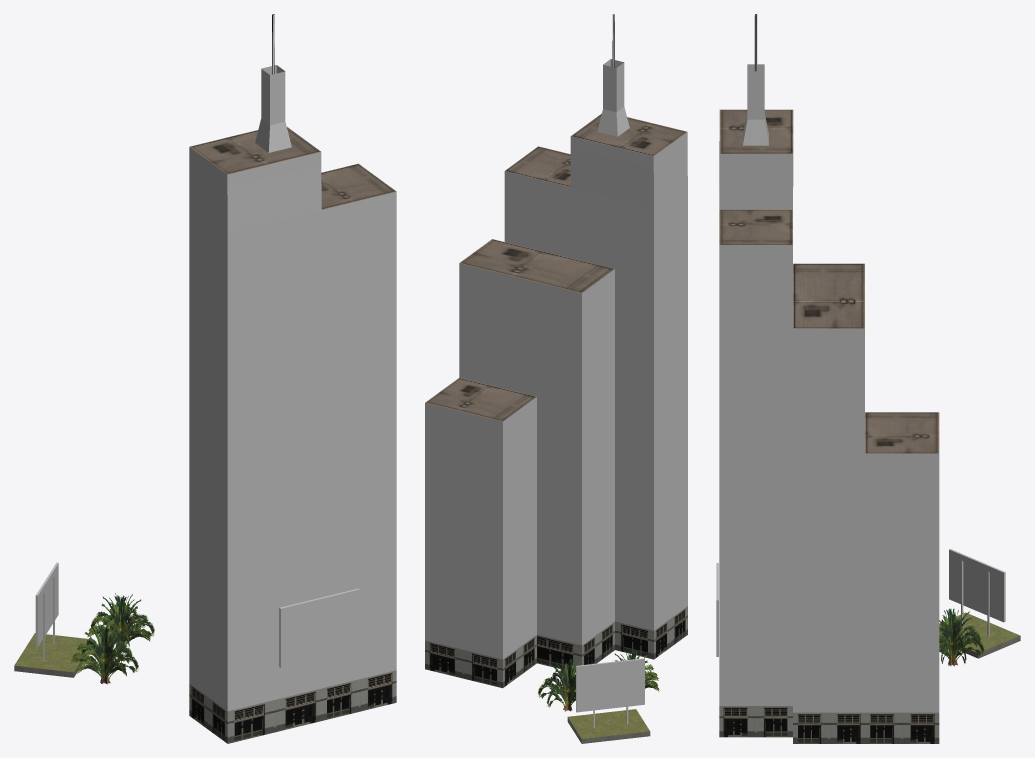
The model's file is building48.fbx.
The picture shows the model from 3 angles, left to right: view 1: azimuth 30°, elevation 25°; view 2: azimuth 150°, elevation 25°; view 3: azimuth 270°, elevation 25°; orthographic projection. The views are drawn at different scales.
Parts seen in each view (by area): view 1: U3DMesh; view 2: U3DMesh; view 3: U3DMesh.
Part boxes in pixels (x1,y1,x2,y2): U3DMesh: [14, 14, 396, 743]; U3DMesh: [425, 14, 687, 743]; U3DMesh: [716, 14, 1020, 743].
Bounding box in the file's own units: 54.3 × 135 × 55.3.
